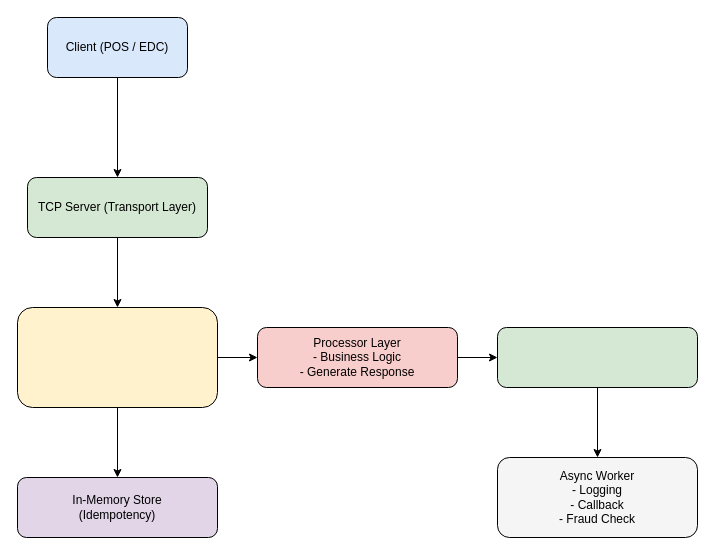
Some shapes in this 715 by 555 pixel diagram are drawn without their labels. The shapes that lost their labels are listed below. From the top down, each one's centre as x and y in pixels, then its label:
At [117,357]: "Handler Layer - Parse Message - Idempotency Check".
At [597,357]: "Event Queue (Kafka Mock / Channel)".
